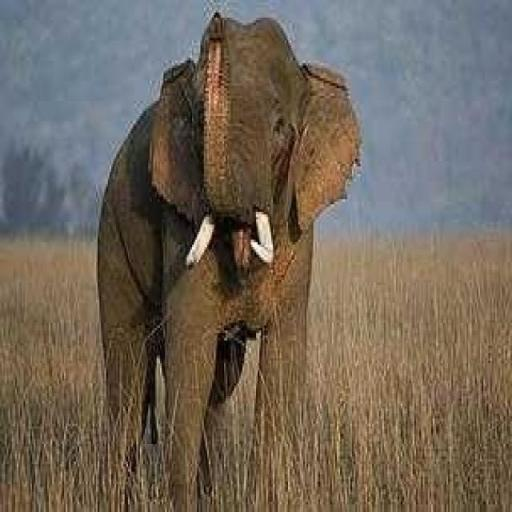Elephant: (94, 10, 362, 509)
